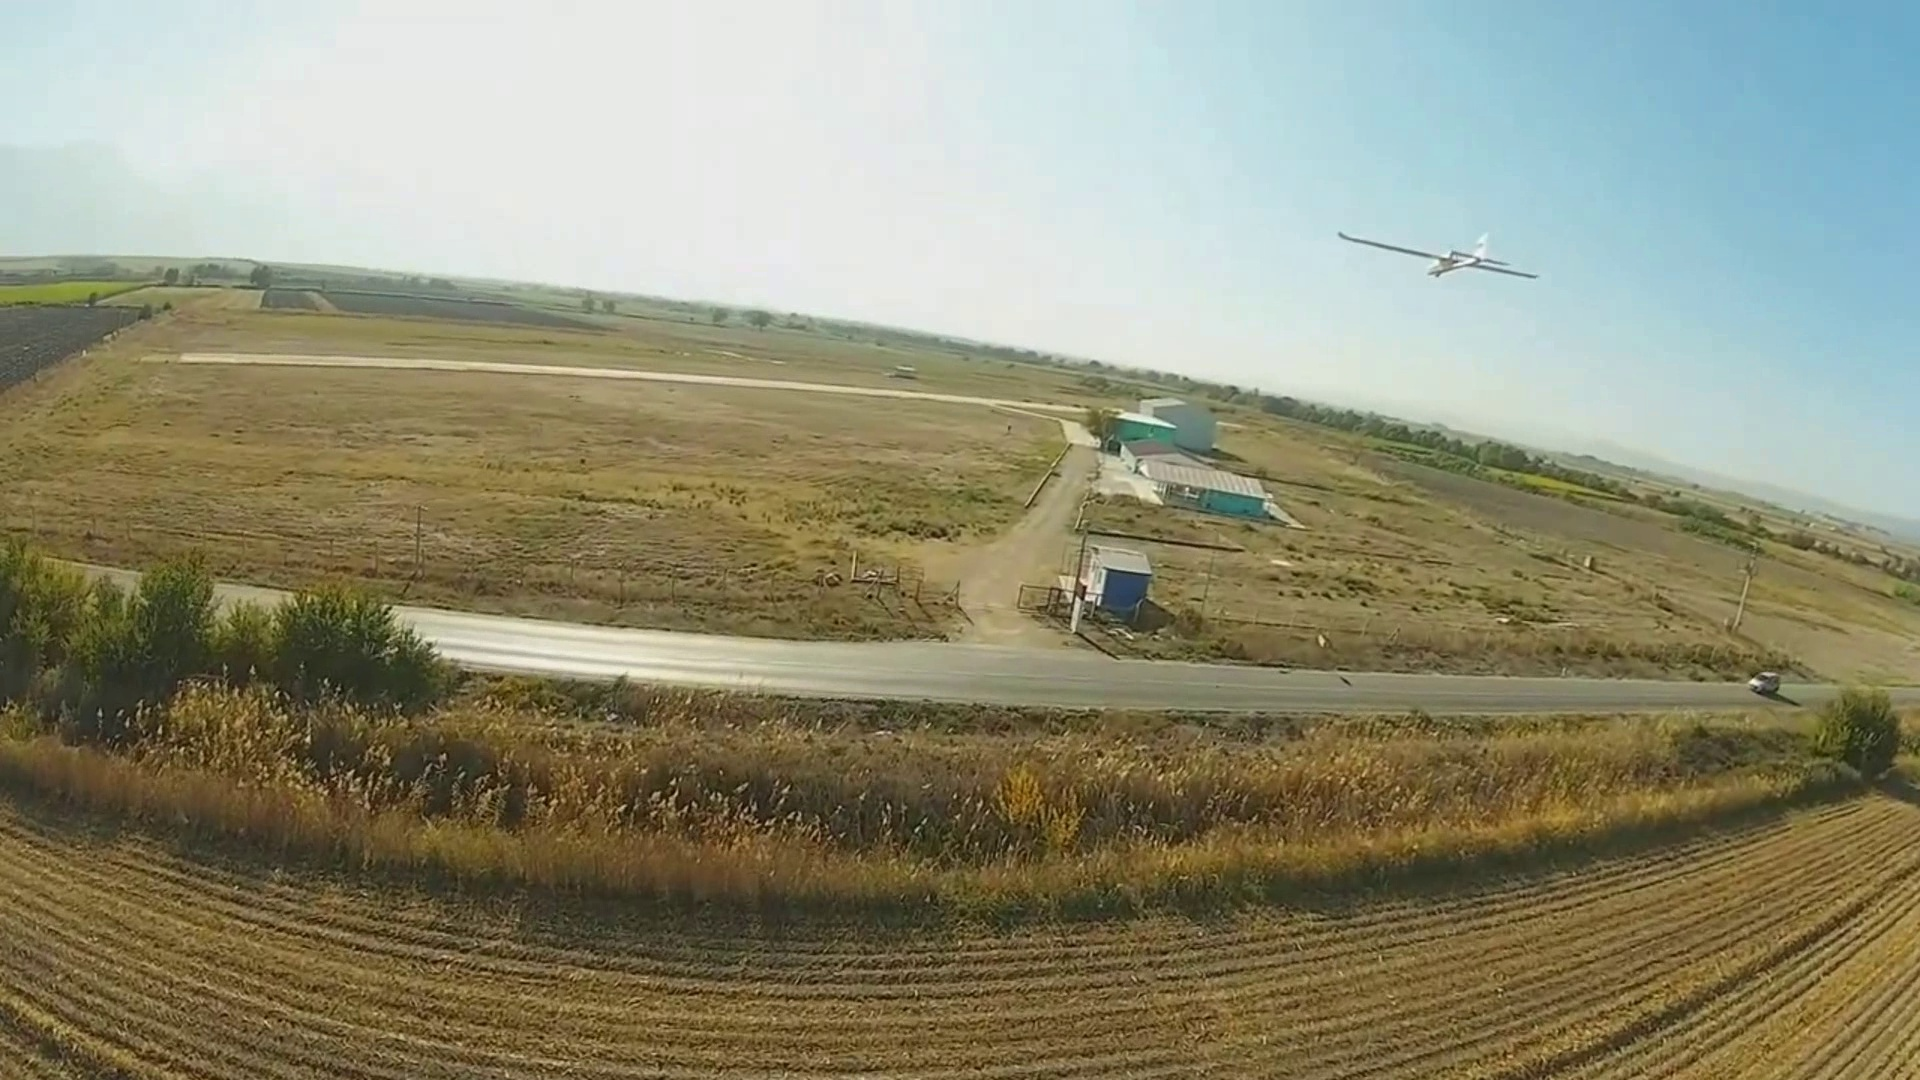airplane: (1335, 222, 1539, 281)
